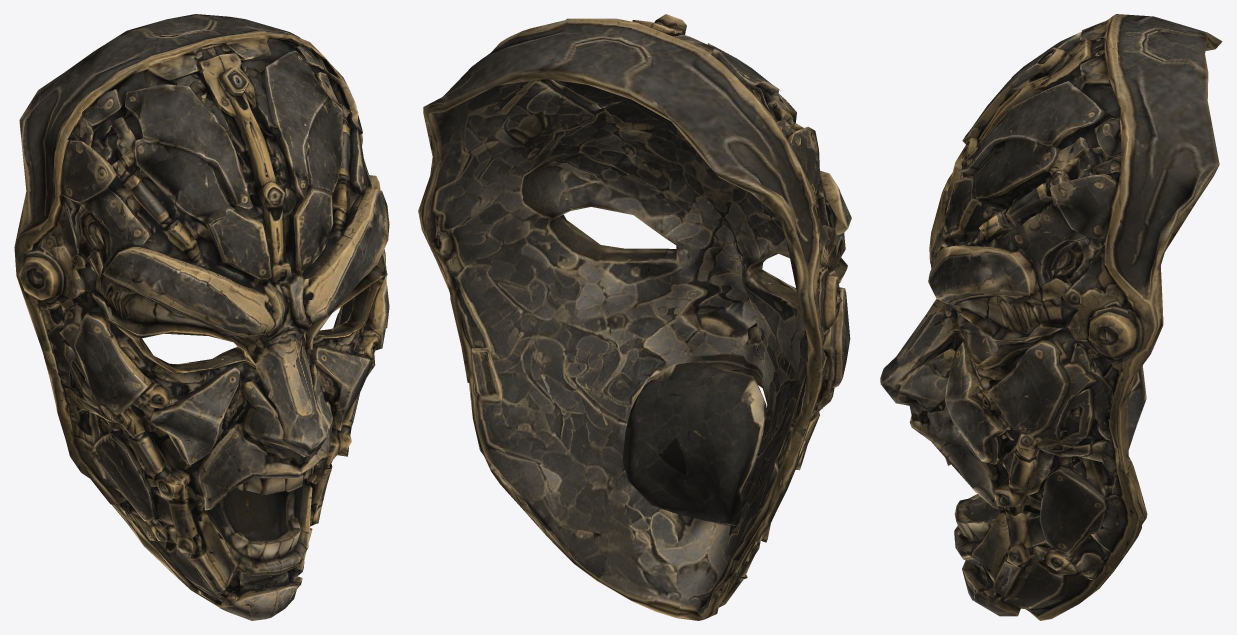
3 views of the same model, side by side, from view 1: azimuth 30°, elevation 25°; view 2: azimuth 150°, elevation 25°; view 3: azimuth 270°, elevation 25° (orthographic). The views are drawn at different scales.
Visible parts, largest first — view 1: mechanism-fury; view 2: mechanism-fury; view 3: mechanism-fury.
Boxes of the visible parts, left/top/right/bottom form: mechanism-fury: left=14, top=14, right=389, bottom=620; mechanism-fury: left=418, top=14, right=851, bottom=620; mechanism-fury: left=880, top=14, right=1222, bottom=620.
Bounding box in the file's own units: 1.31 × 1.9 × 1.02.
1 material, 1 textured.
